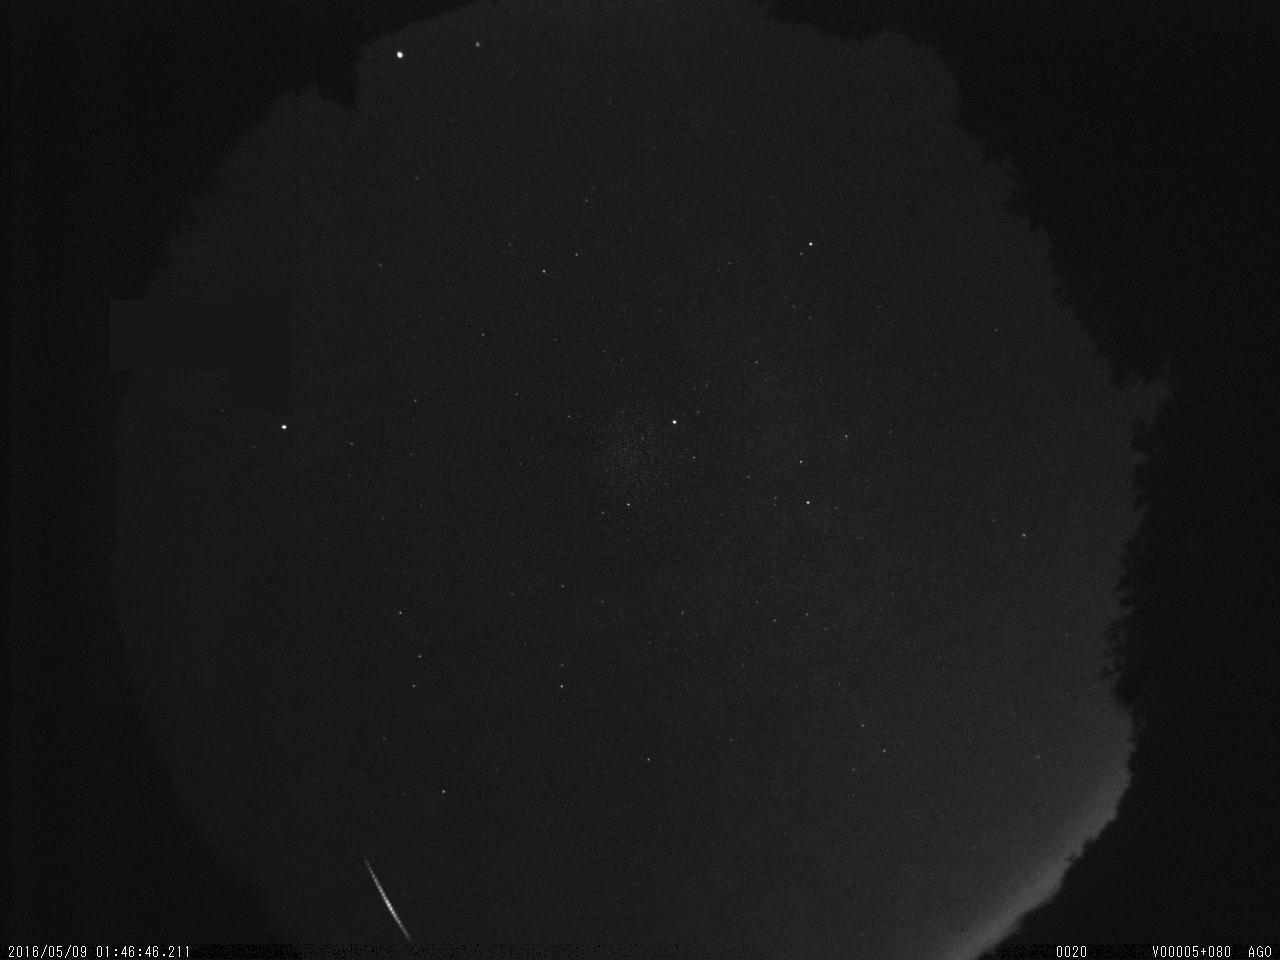meteor: (339, 842, 436, 960)
